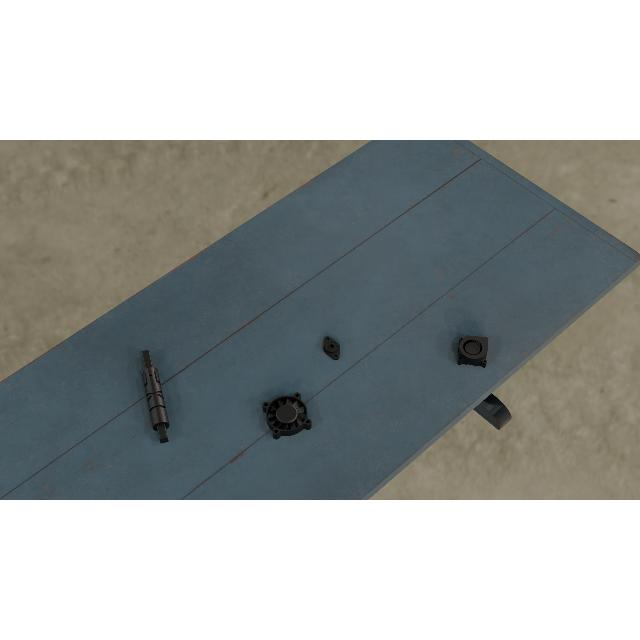Pieza1: (137, 347, 173, 447)
Pieza2: (319, 333, 345, 362)
Pieza3: (457, 335, 489, 369)
Pieza4: (261, 391, 313, 441)
